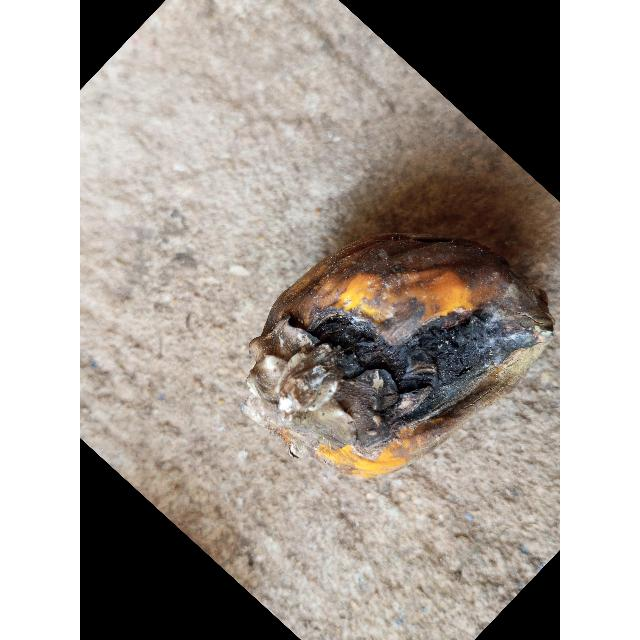damaged: (241, 235, 554, 477)
